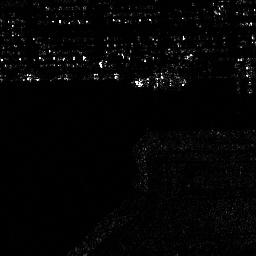ship: (135, 74, 187, 91)
